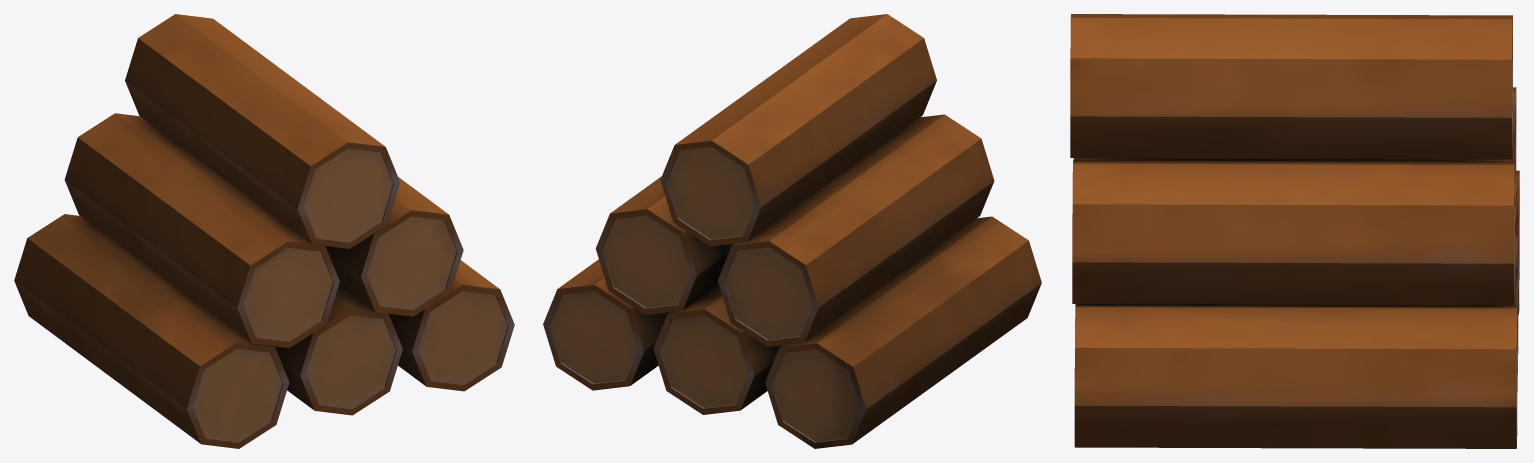
Rendered from Woods.fbx.
3 renders of one model, left to right at view 1: azimuth 30°, elevation 25°; view 2: azimuth 150°, elevation 25°; view 3: azimuth 270°, elevation 25°, orthographic. The views are drawn at different scales.
Parts seen in each view (by area): view 1: Woods; view 2: Woods; view 3: Woods.
Part boxes in pixels (bbox=[...]): Woods: bbox=[14, 14, 514, 448]; Woods: bbox=[543, 14, 1041, 448]; Woods: bbox=[1070, 14, 1519, 448].
Bounding box in the file's own units: 143 × 118 × 134.
Materials: 1 (1 with a texture image).
